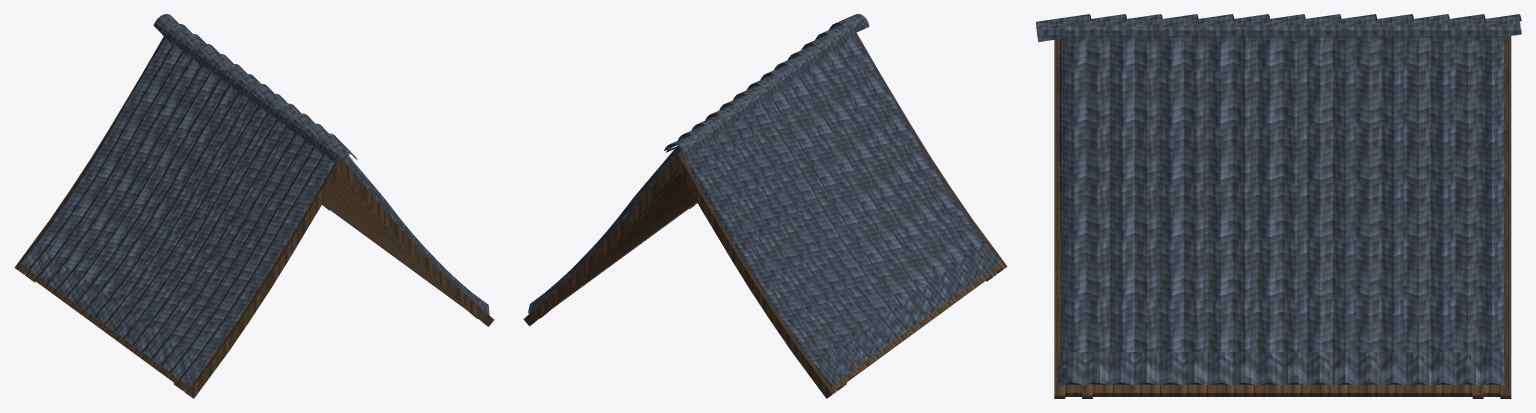
File: Roof_Slate_8x8.gltf
3 views of the same model, side by side, from view 1: azimuth 30°, elevation 25°; view 2: azimuth 150°, elevation 25°; view 3: azimuth 270°, elevation 25° (orthographic). The views are drawn at different scales.
Visible parts, largest first — view 1: Roof_Slate_8x8; view 2: Roof_Slate_8x8; view 3: Roof_Slate_8x8.
Part boxes in pixels (<box>): Roof_Slate_8x8: <box>14,14,494,398</box>; Roof_Slate_8x8: <box>523,14,1007,398</box>; Roof_Slate_8x8: <box>1036,14,1521,398</box>.
Bounding box in the file's own units: 9.95 × 6.78 × 10.33.
Materials: 2 (2 with a texture image).
